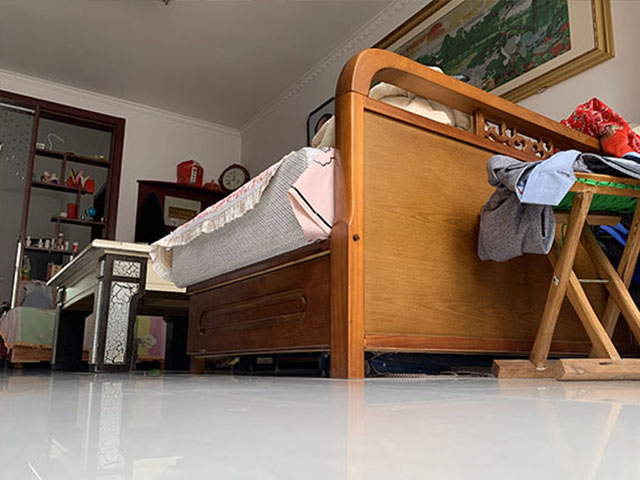sofa: (146, 46, 634, 384)
stool: (489, 170, 640, 385)
table: (44, 237, 188, 374)
